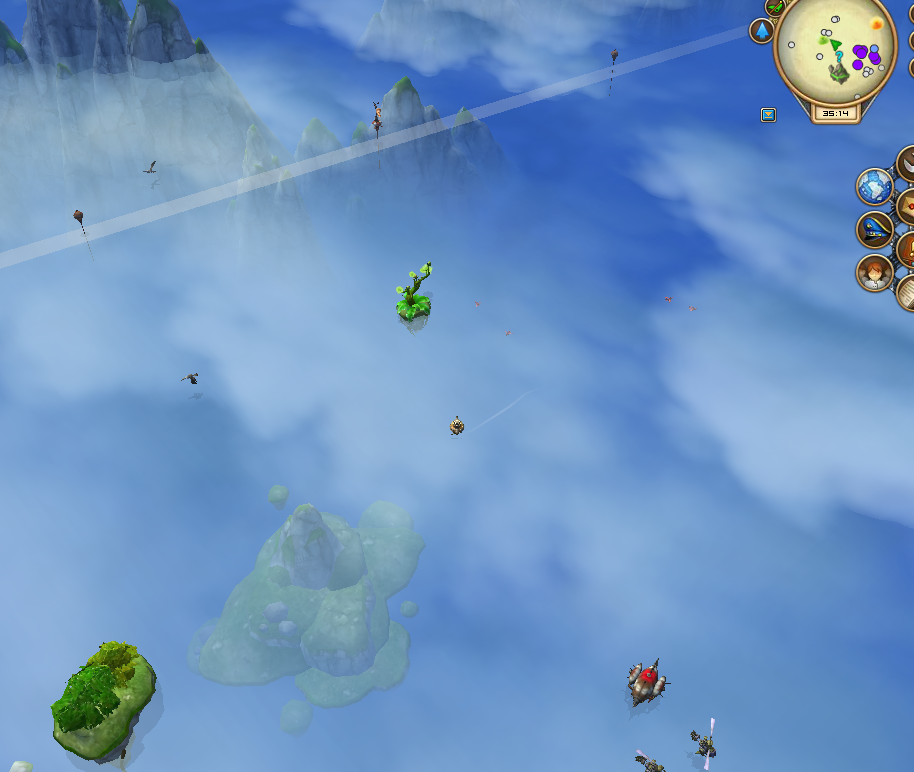dandelion-full: (385, 252, 443, 332)
